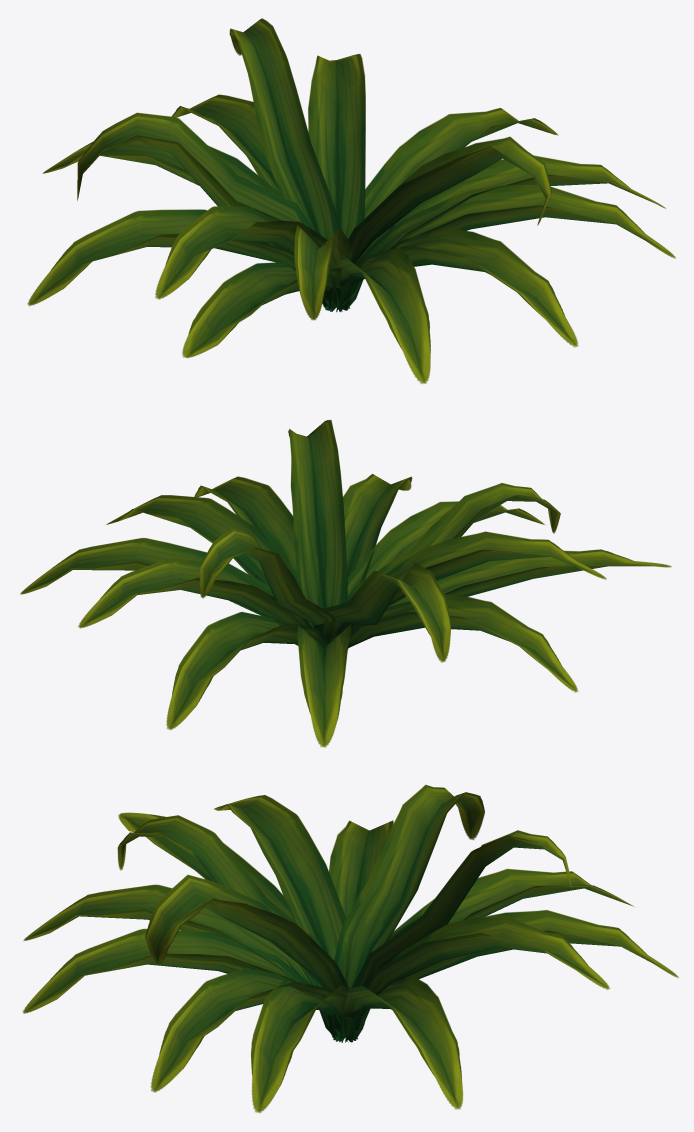
The model's file is BlazingSplinter_1.glb.
3 views of the same model, one above another, from view 1: azimuth 30°, elevation 25°; view 2: azimuth 150°, elevation 25°; view 3: azimuth 270°, elevation 25° (orthographic). The views are drawn at different scales.
Visible parts, largest first — view 1: Object461; view 2: Object461; view 3: Object461.
Boxes of the visible parts, bbox=[...] form: Object461: bbox=[27, 18, 675, 383]; Object461: bbox=[20, 419, 671, 747]; Object461: bbox=[22, 784, 678, 1112].
Bounding box in the file's own units: 0.3896 × 0.1406 × 0.3888.
1 material, 1 textured.
